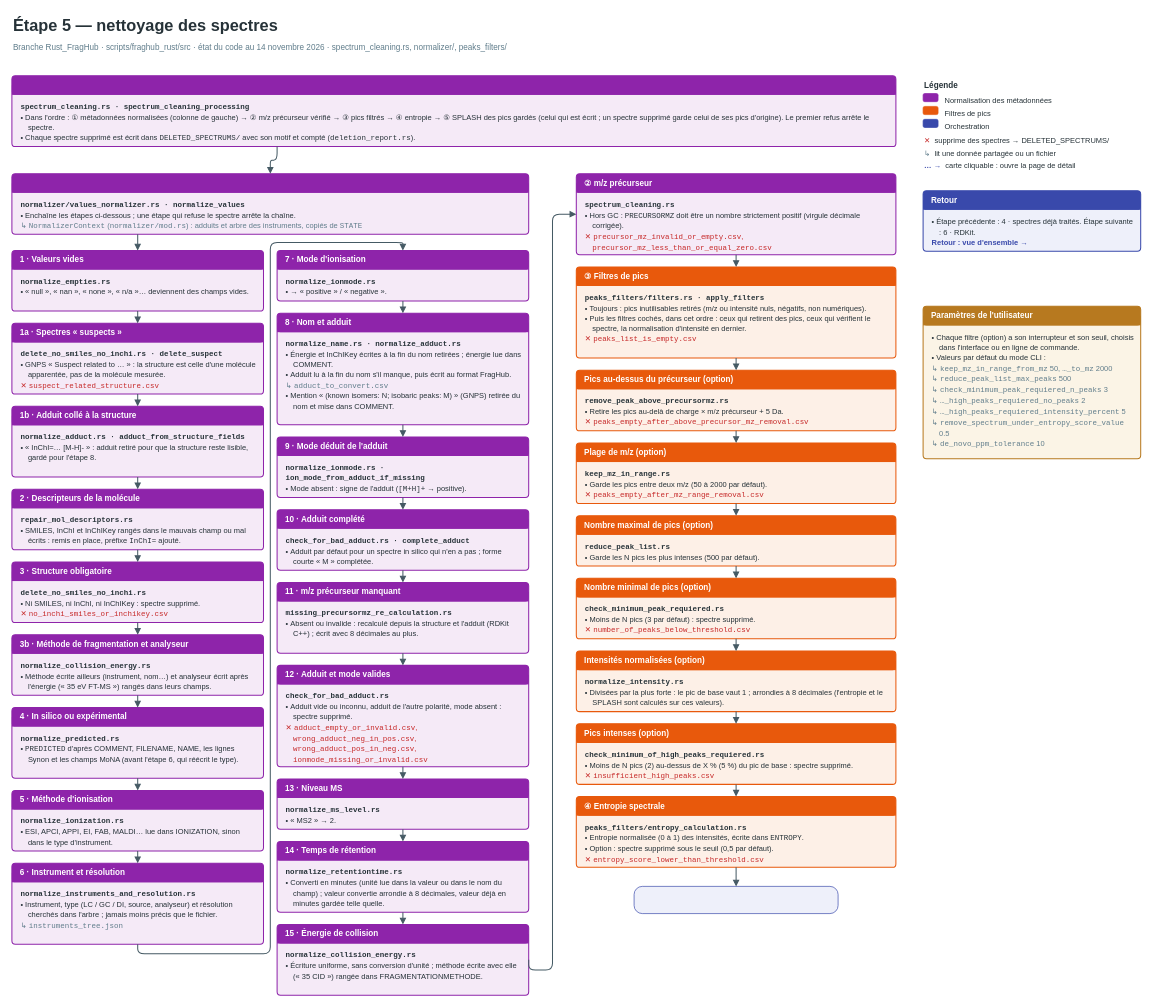
The diagram is 1159 pixels wide and 1007 high, and some of its shapes have lost their labels. The box of each missing label's shape, as (x1, y1, x2, y2) in pixels:
Nettoyage d'un spectre (tous les spectres en parallèle, par paquets): (12, 75, 896, 95)
Spectre gardé → étape 6 · RDKit: (633, 886, 838, 914)
① Normalisation des métadonnées: (12, 173, 528, 192)
